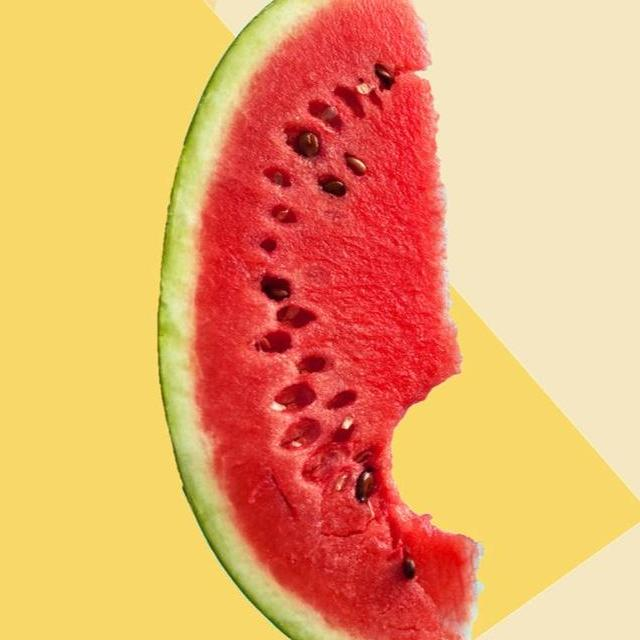watermelon: (121, 0, 563, 640)
